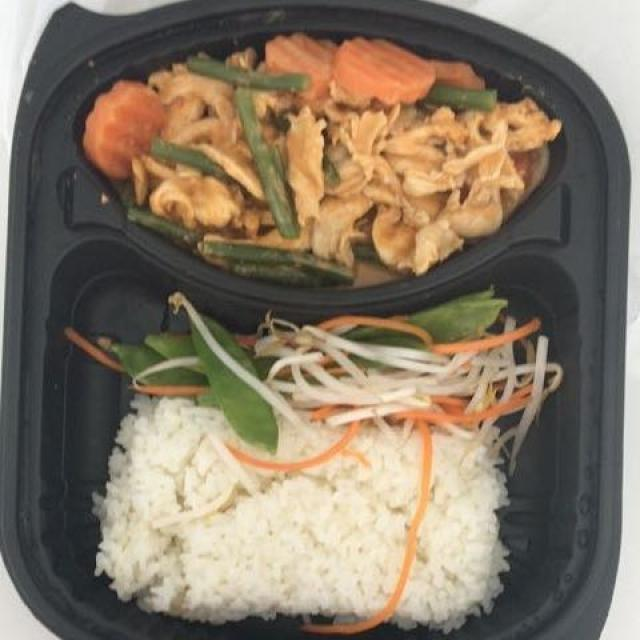chicken-curry: (83, 42, 542, 278)
rice: (84, 394, 516, 627)
sprouts: (241, 323, 522, 422)
